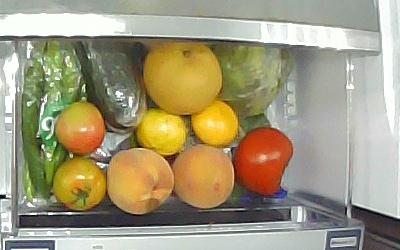peach: (105, 146, 175, 214), (169, 142, 235, 208)
pear: (141, 38, 222, 115)
tangerine: (134, 106, 187, 156), (190, 99, 239, 146)
tomato: (231, 125, 294, 196), (51, 157, 106, 210), (53, 100, 105, 155)
